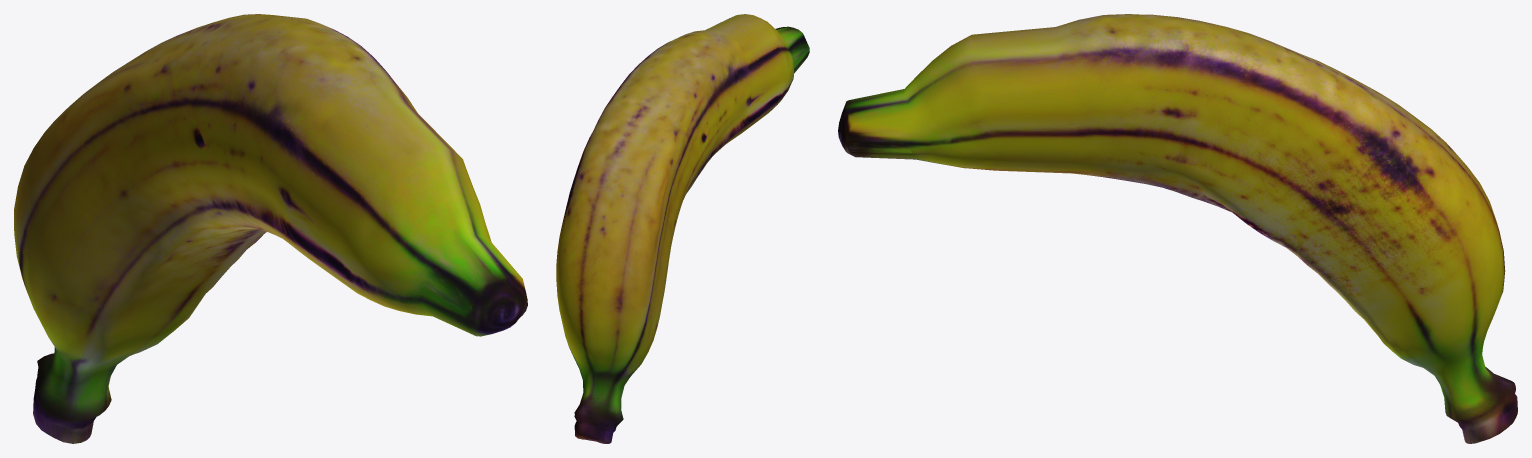
Rendered from BananaGun.fbx.
The picture shows the model from 3 angles, left to right: view 1: azimuth 30°, elevation 25°; view 2: azimuth 150°, elevation 25°; view 3: azimuth 270°, elevation 25°; orthographic projection. The views are drawn at different scales.
Visible parts, largest first — view 1: Cube; view 2: Cube; view 3: Cube.
Part boxes in pixels (box(x1,y1,x2,y2)): Cube: box(14, 14, 527, 443); Cube: box(556, 14, 809, 443); Cube: box(838, 14, 1517, 443).
Size of the model in its own units: 271 by 770 by 1083.
